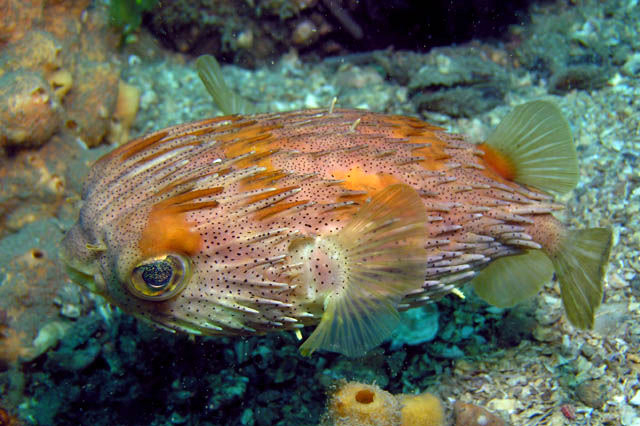Diodon_holocanthus: (45, 89, 602, 360)
